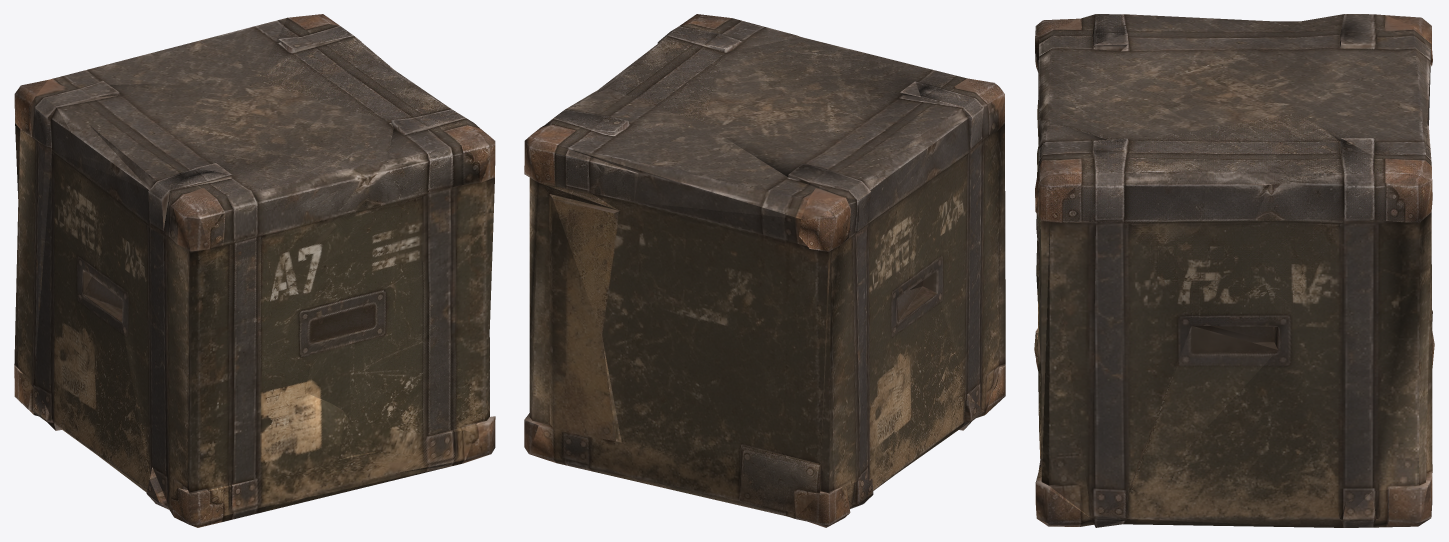
The model's file is crate.fbx.
3 renders of one model, left to right at view 1: azimuth 30°, elevation 25°; view 2: azimuth 150°, elevation 25°; view 3: azimuth 270°, elevation 25°, orthographic. The views are drawn at different scales.
Parts seen in each view (by area): view 1: Mesh_0; view 2: Mesh_0; view 3: Mesh_0.
Boxes of the visible parts, box(x1,y1,x2,y2) form: Mesh_0: box(14, 14, 495, 527); Mesh_0: box(524, 14, 1005, 527); Mesh_0: box(1034, 14, 1434, 527).
Bounding box in the file's own units: 190 × 187 × 189.
1 material, 1 textured.
